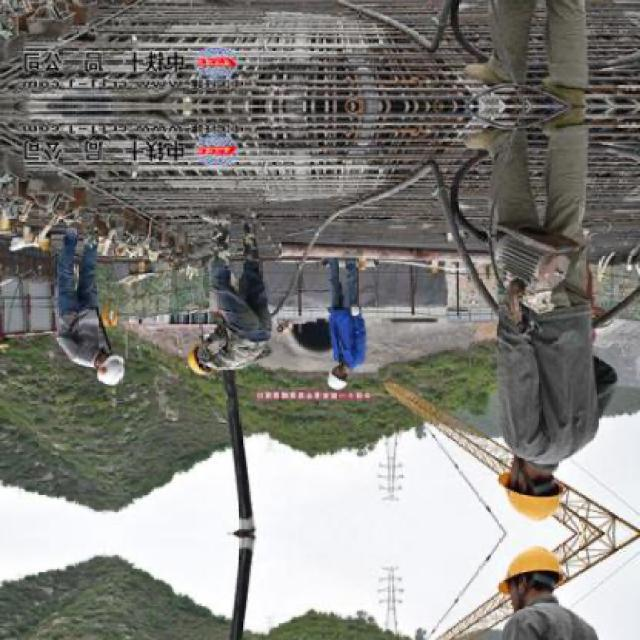con casco: (466, 428, 608, 545), (48, 324, 138, 422), (322, 351, 408, 404), (174, 322, 236, 385)
